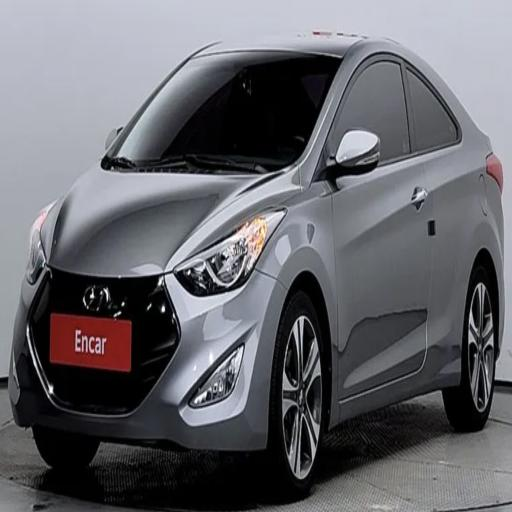scratch: (319, 289, 435, 400), (100, 177, 224, 279)
